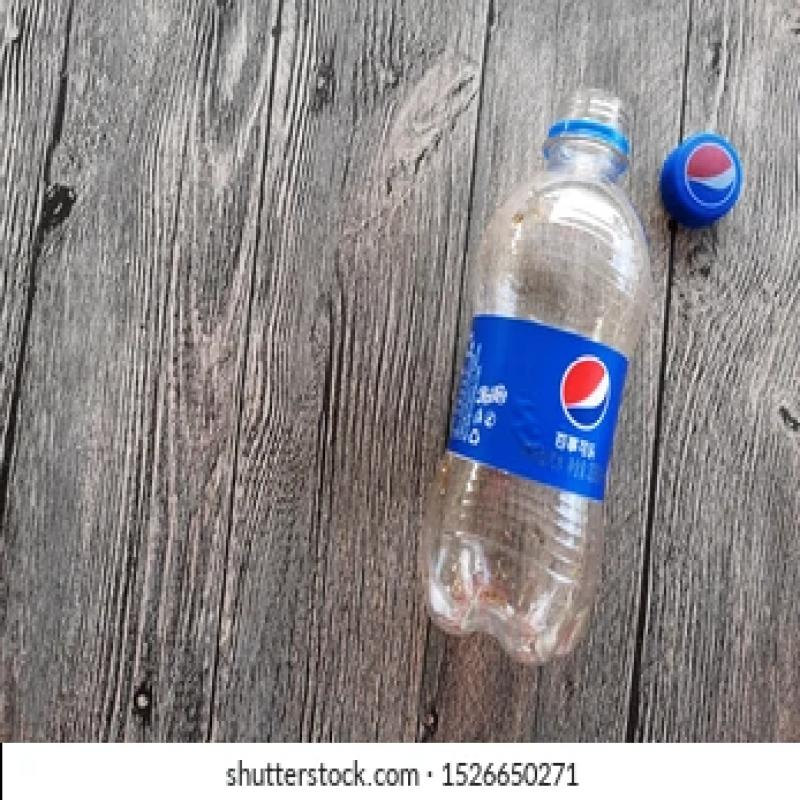botella: (416, 89, 641, 664)
